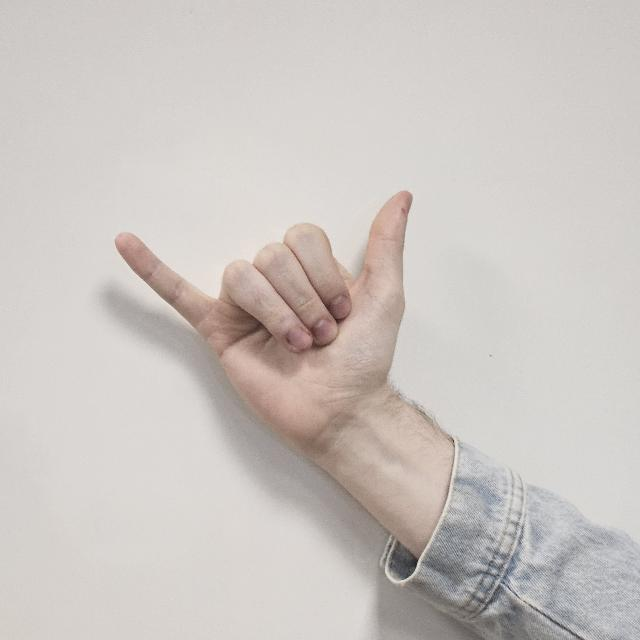Direita: (103, 190, 463, 490)
